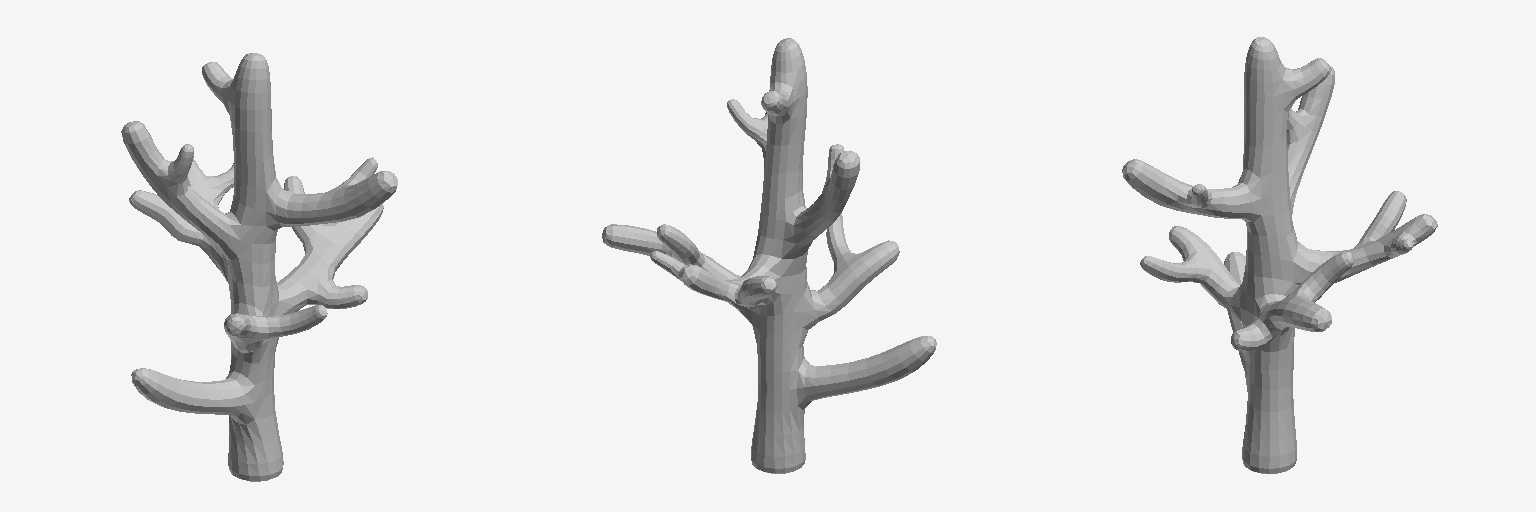
File: Coral_A_01_LOD0.obj
3 renders of one model, left to right at view 1: azimuth 30°, elevation 25°; view 2: azimuth 150°, elevation 25°; view 3: azimuth 270°, elevation 25°, orthographic.
Parts seen in each view (by area): view 1: Coral_A_01_LOD0_Cylinder.314; view 2: Coral_A_01_LOD0_Cylinder.314; view 3: Coral_A_01_LOD0_Cylinder.314.
Part boxes in pixels (bbox=[...]): Coral_A_01_LOD0_Cylinder.314: bbox=[121, 53, 397, 481]; Coral_A_01_LOD0_Cylinder.314: bbox=[602, 38, 936, 473]; Coral_A_01_LOD0_Cylinder.314: bbox=[1122, 37, 1437, 473].
Size of the model in its own units: 7.37 by 10.24 by 6.93.